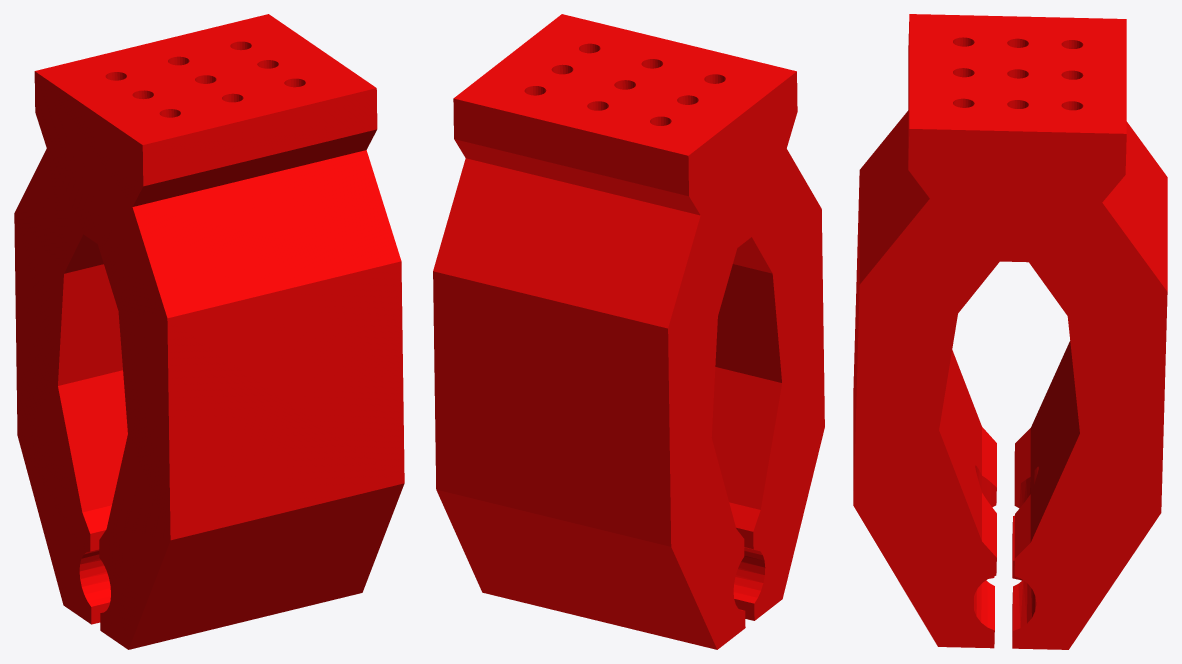
File: Right_hand.dae
3 views of the same model, side by side, from view 1: azimuth 30°, elevation 25°; view 2: azimuth 150°, elevation 25°; view 3: azimuth 270°, elevation 25° (orthographic).
Parts seen in each view (by area): view 1: hand_right; view 2: hand_right; view 3: hand_right.
Boxes of the visible parts, x1,y1,x2,y2 form: hand_right: (14,14,404,649); hand_right: (433,14,824,649); hand_right: (853,14,1167,649).
Bounding box in the file's own units: 0.03 × 0.0347 × 0.0635.
